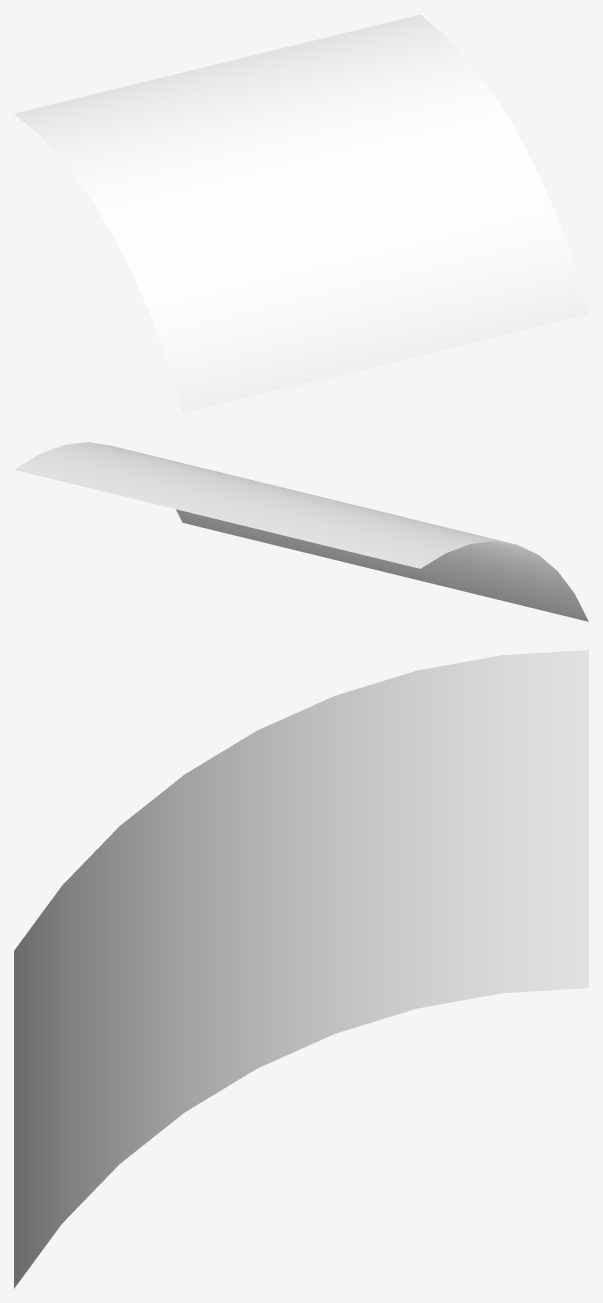
File: grd_If_H_0.dae
The picture shows the model from 3 angles, top to bottom: view 1: azimuth 30°, elevation 25°; view 2: azimuth 150°, elevation 25°; view 3: azimuth 270°, elevation 25°; orthographic projection. The views are drawn at different scales.
Parts seen in each view (by area): view 1: grd_If_H_0; view 2: grd_If_H_0; view 3: grd_If_H_0.
Boxes of the visible parts, box(x1,y1,x2,y2) form: grd_If_H_0: box(14, 14, 588, 413); grd_If_H_0: box(14, 442, 588, 621); grd_If_H_0: box(14, 650, 588, 1288).
Size of the model in its own units: 512 by 212 by 368.
Materials: 2 (1 with a texture image).
